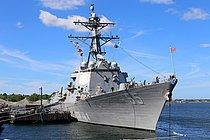MIL_Ship: (48, 3, 178, 131)
